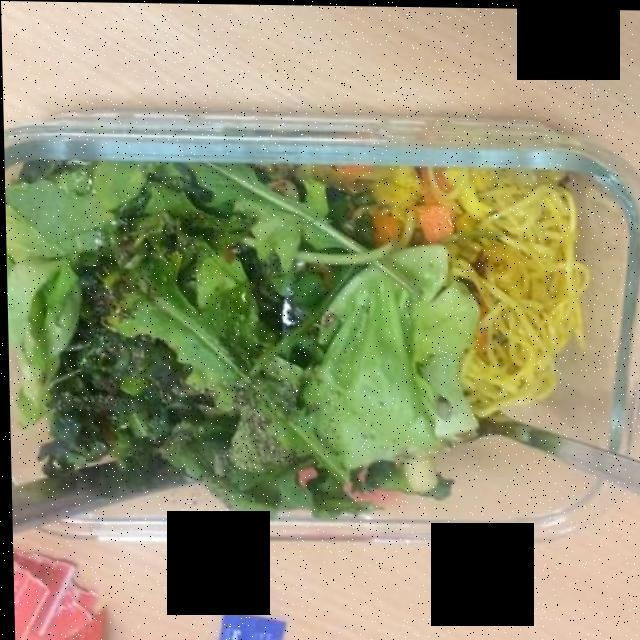noodles: (327, 167, 566, 415)
salad: (13, 168, 469, 519)
